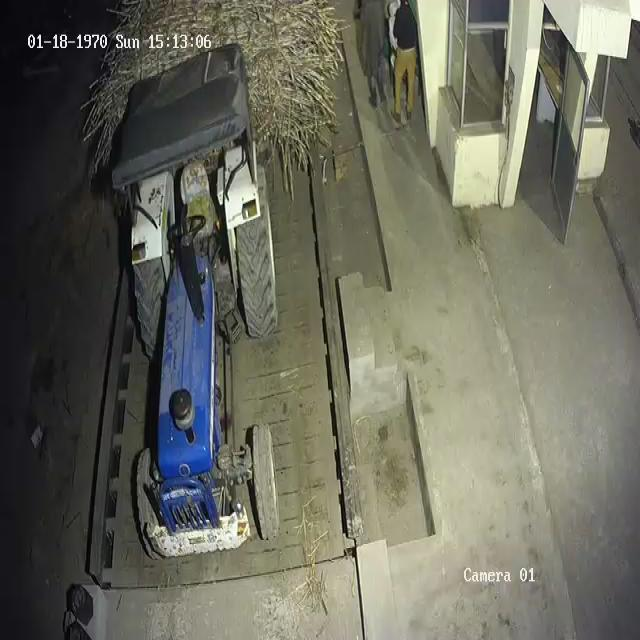Tratores - v5 YOLO V8L 2024-11-13: (113, 70, 278, 564)
